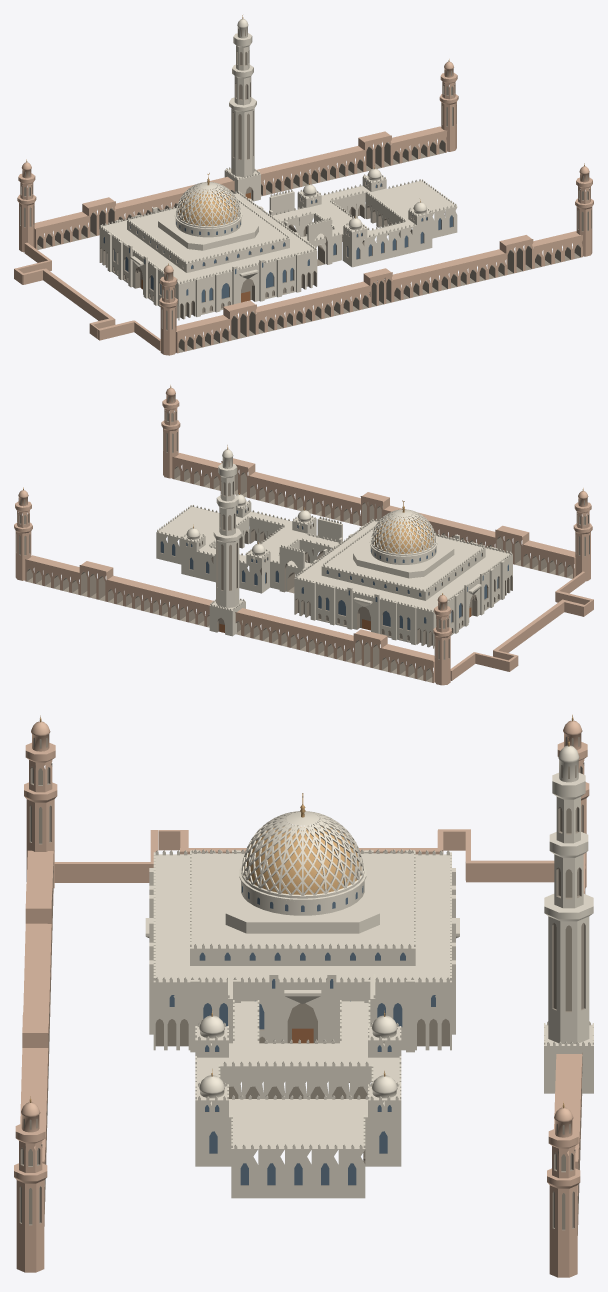
Rendered from muscat-sultan-qaboos-grand-mosque.detail.glb.
The picture shows the model from 3 angles, top to bottom: view 1: azimuth 30°, elevation 25°; view 2: azimuth 150°, elevation 25°; view 3: azimuth 270°, elevation 25°; orthographic projection. The views are drawn at different scales.
Visible parts, largest first — view 1: Sultan Qaboos Grand Mosque; view 2: Sultan Qaboos Grand Mosque; view 3: Sultan Qaboos Grand Mosque.
Boxes of the visible parts, x1,y1,x2,y2 form: Sultan Qaboos Grand Mosque: [14, 15, 593, 355]; Sultan Qaboos Grand Mosque: [14, 385, 593, 685]; Sultan Qaboos Grand Mosque: [14, 714, 593, 1277].
Size of the model in its own units: 244 by 91.32 by 139.
